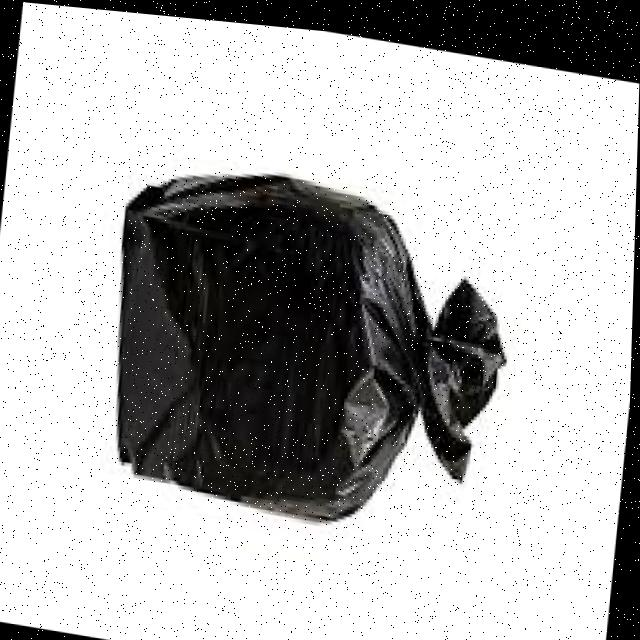black_plastic_bag: (99, 135, 536, 550)
